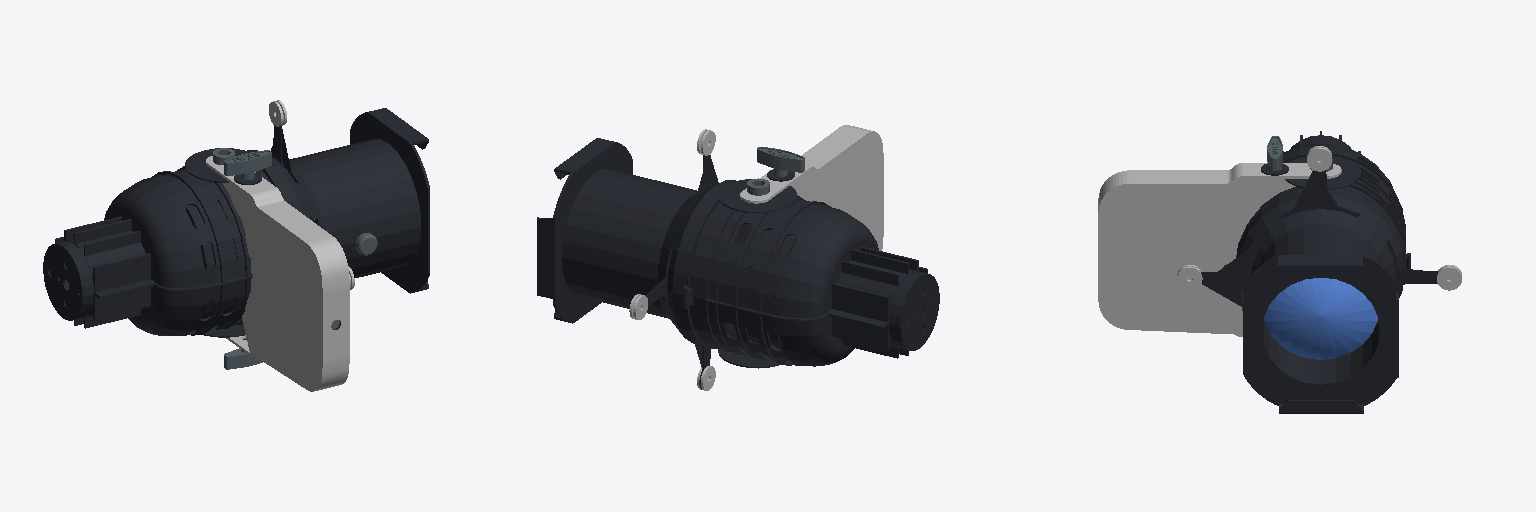
Rendered from spotlight.obj.
The picture shows the model from 3 angles: view 1: azimuth 30°, elevation 25°; view 2: azimuth 150°, elevation 25°; view 3: azimuth 270°, elevation 25°; orthographic projection.
Parts seen in each view (by area): view 1: Mesh5 Model, Mesh1 Model, Mesh12 Model, Mesh9 Model, Mesh4 Model, Mesh8 Model, Mesh2 Model; view 2: Mesh5 Model, Mesh1 Model, Mesh12 Model, Mesh9 Model, Mesh4 Model, Mesh8 Model; view 3: Mesh1 Model, Mesh12 Model, Mesh5 Model, Mesh10 Model.
Boxes of the visible parts, <box> form: Mesh5 Model: <box>55,100,420,335</box>; Mesh1 Model: <box>185,148,349,391</box>; Mesh12 Model: <box>313,108,429,293</box>; Mesh9 Model: <box>43,241,93,320</box>; Mesh4 Model: <box>186,202,236,318</box>; Mesh8 Model: <box>224,150,271,179</box>; Mesh2 Model: <box>224,348,262,369</box>; Mesh5 Model: <box>562,129,927,390</box>; Mesh1 Model: <box>718,125,883,367</box>; Mesh12 Model: <box>537,138,671,323</box>; Mesh9 Model: <box>889,271,939,350</box>; Mesh4 Model: <box>746,231,796,348</box>; Mesh8 Model: <box>757,147,804,176</box>; Mesh1 Model: <box>1098,156,1361,336</box>; Mesh12 Model: <box>1243,255,1398,413</box>; Mesh5 Model: <box>1236,131,1461,297</box>; Mesh10 Model: <box>1177,243,1259,306</box>.
Size of the model in its own units: 0.445 by 0.3186 by 0.4072.